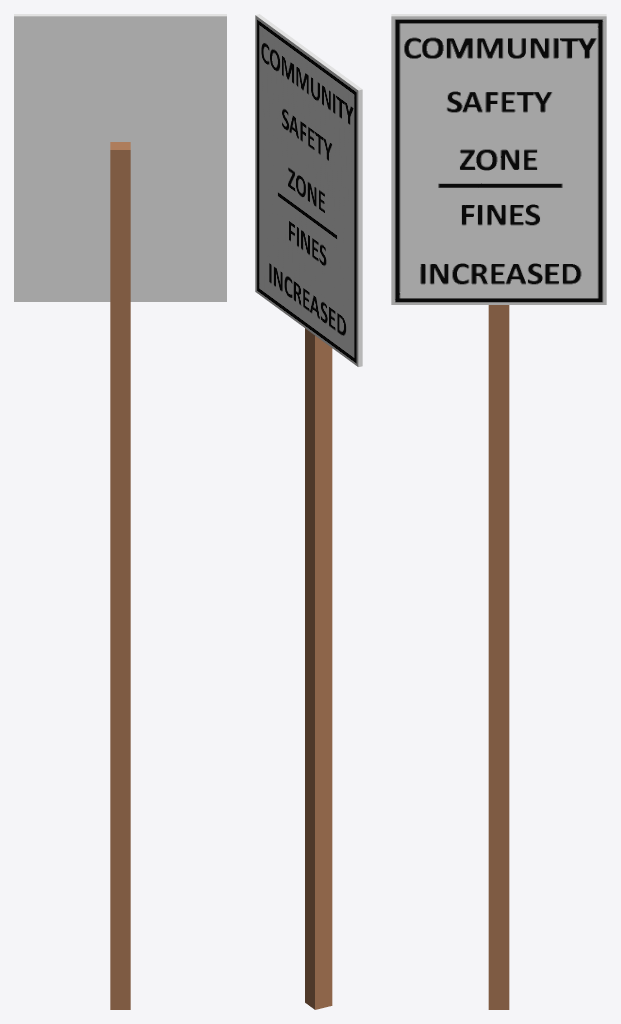
The model's file is sign16.fbx.
The picture shows the model from 3 angles, left to right: view 1: azimuth 90°, elevation 25°; view 2: azimuth 210°, elevation 25°; view 3: azimuth 270°, elevation 25°; orthographic projection. The views are drawn at different scales.
Visible parts, largest first — view 1: Cylinder.003_Cylinder.002; view 2: Cylinder.003_Cylinder.002; view 3: Cylinder.003_Cylinder.002.
Boxes of the visible parts, x1,y1,x2,y2 form: Cylinder.003_Cylinder.002: (14, 14, 226, 1009); Cylinder.003_Cylinder.002: (255, 14, 362, 1009); Cylinder.003_Cylinder.002: (391, 14, 606, 1009).
Size of the model in its own units: 9.02 by 398 by 78.03.
